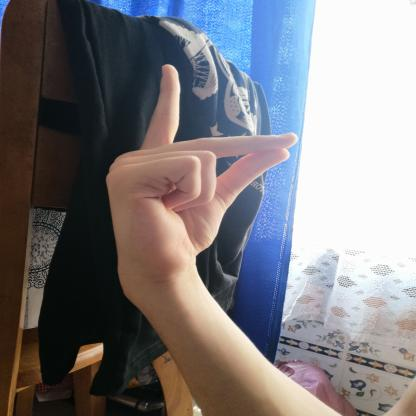TAA: (93, 55, 311, 294)
